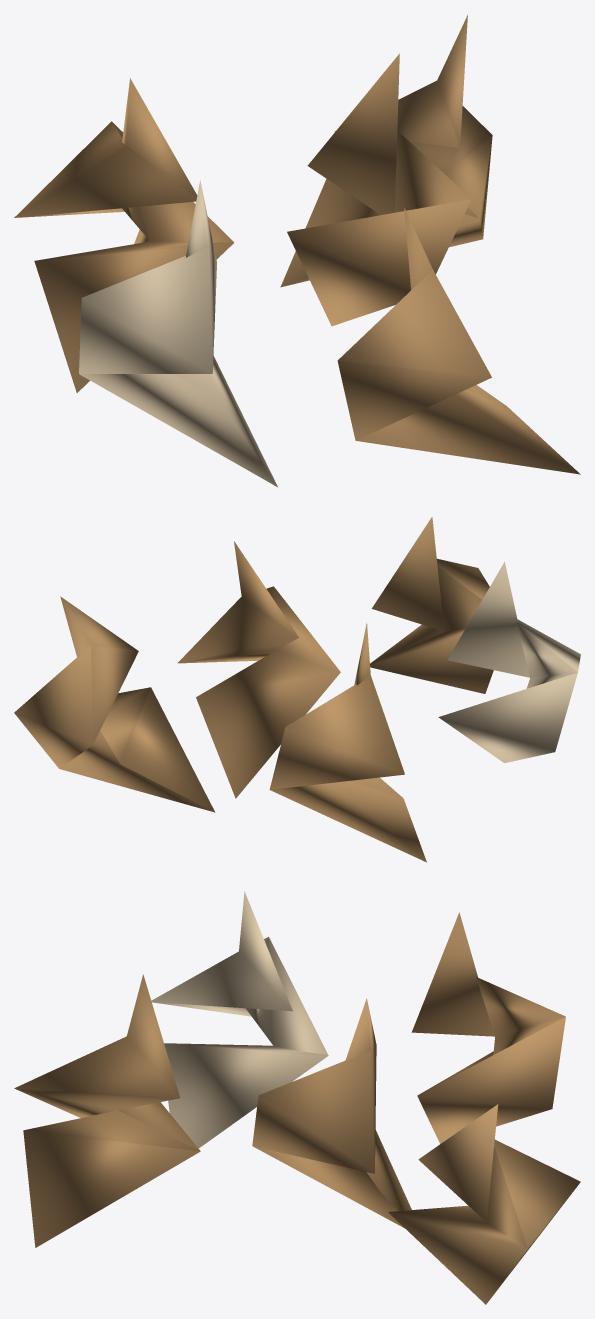
File: grotto_gc_shells_lod2.glb
The picture shows the model from 3 angles, top to bottom: view 1: azimuth 30°, elevation 25°; view 2: azimuth 150°, elevation 25°; view 3: azimuth 270°, elevation 25°; orthographic projection. The views are drawn at different scales.
Parts seen in each view (by area): view 1: grotto_gc_shells.001; view 2: grotto_gc_shells.001; view 3: grotto_gc_shells.001.
Boxes of the visible parts, x1,y1,x2,y2 form: grotto_gc_shells.001: (14, 15, 580, 487); grotto_gc_shells.001: (14, 517, 580, 862); grotto_gc_shells.001: (14, 891, 580, 1304).
Size of the model in its own units: 1.69 by 0.879 by 1.68.
